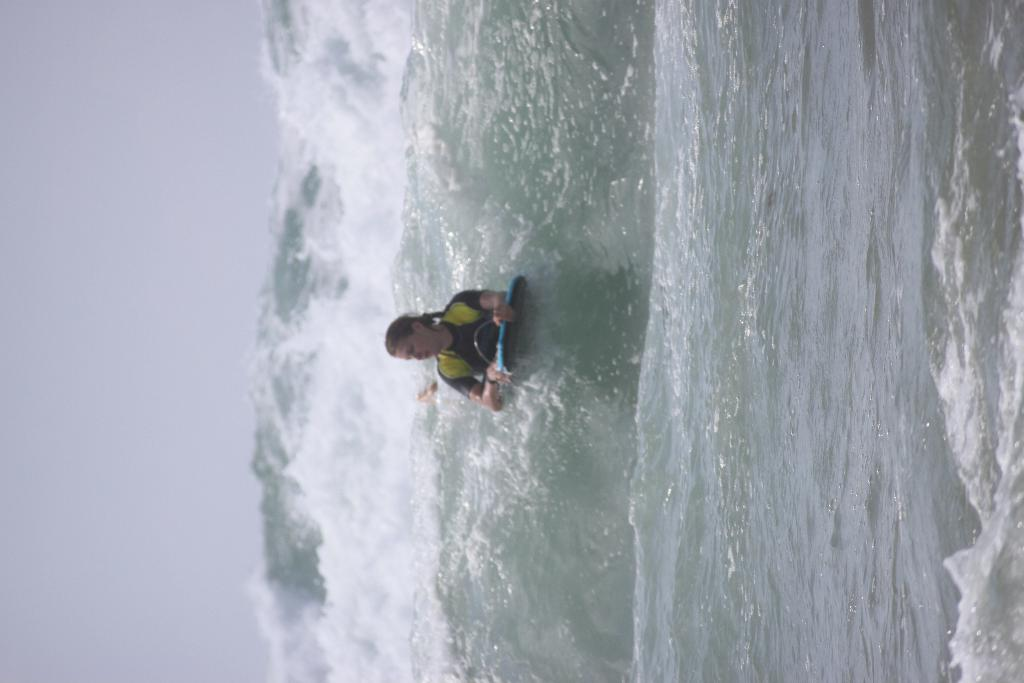Person: (383, 291, 515, 412)
